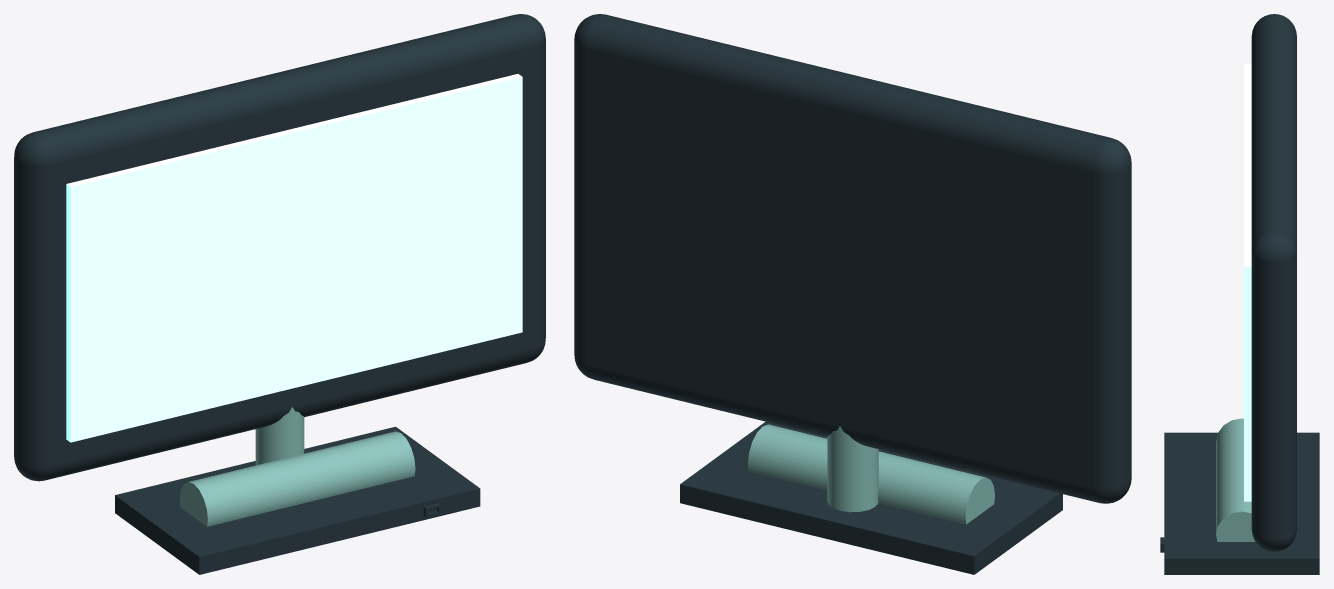
3 renders of one model, left to right at view 1: azimuth 30°, elevation 25°; view 2: azimuth 150°, elevation 25°; view 3: azimuth 270°, elevation 25°, orthographic. The views are drawn at different scales.
Visible parts, largest first — view 1: screen-surface, halo-bezel, crescent-foot, foot-rail, split-stem; view 2: halo-bezel, crescent-foot, foot-rail, split-stem; view 3: halo-bezel, crescent-foot, foot-rail, screen-surface.
Part boxes in pixels (box(x1,y1,x2,y2)): screen-surface: box(66, 74, 522, 442); halo-bezel: box(14, 14, 545, 481); crescent-foot: box(115, 426, 480, 574); foot-rail: box(179, 431, 415, 526); split-stem: box(255, 407, 304, 465); halo-bezel: box(574, 14, 1131, 503); crescent-foot: box(680, 421, 1062, 574); foot-rail: box(748, 424, 994, 524); split-stem: box(827, 426, 878, 512); halo-bezel: box(1251, 14, 1296, 551); crescent-foot: box(1164, 432, 1319, 574); foot-rail: box(1216, 418, 1255, 541); screen-surface: box(1244, 64, 1251, 501).
Size of the model in its own units: 0.86 by 0.66 by 0.246.
